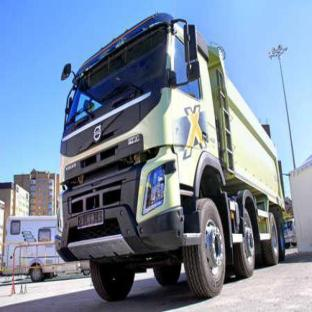Vehicle: (60, 38, 289, 278)
